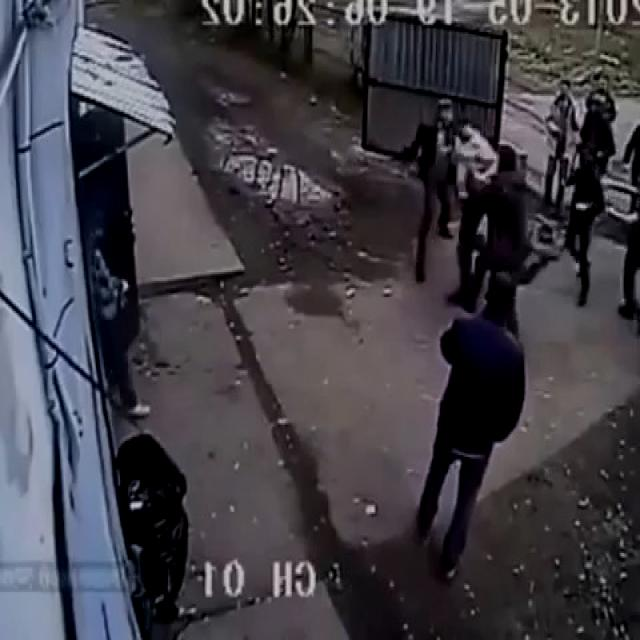fight: (372, 97, 546, 310)
